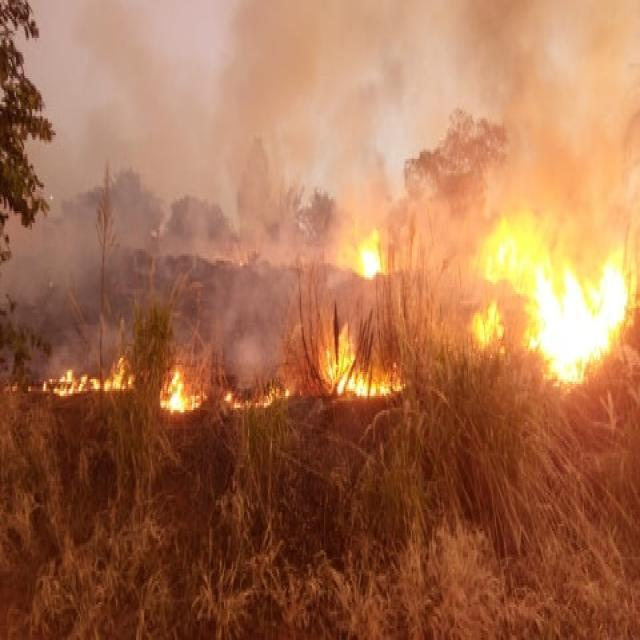Fire: (476, 225, 635, 389), (318, 332, 402, 396), (42, 356, 126, 394), (350, 232, 386, 278), (162, 370, 194, 415)
Smoke: (24, 9, 627, 396), (205, 16, 322, 272), (450, 0, 586, 182), (3, 171, 87, 321), (224, 317, 266, 405)
